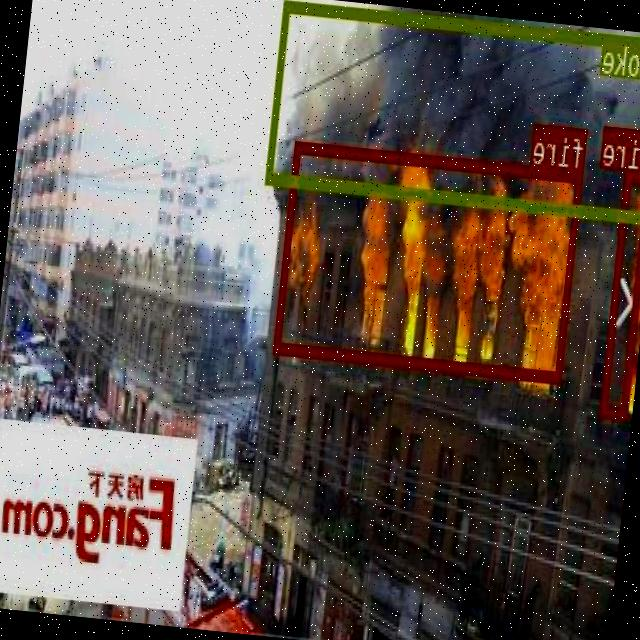fire: (275, 139, 585, 382), (601, 169, 640, 416)
smoke: (267, 0, 640, 221)
